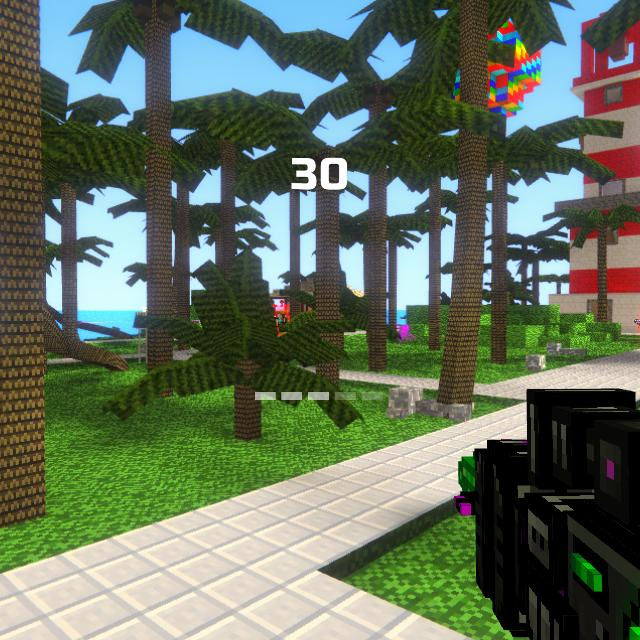Enemy: (276, 310, 288, 336)
